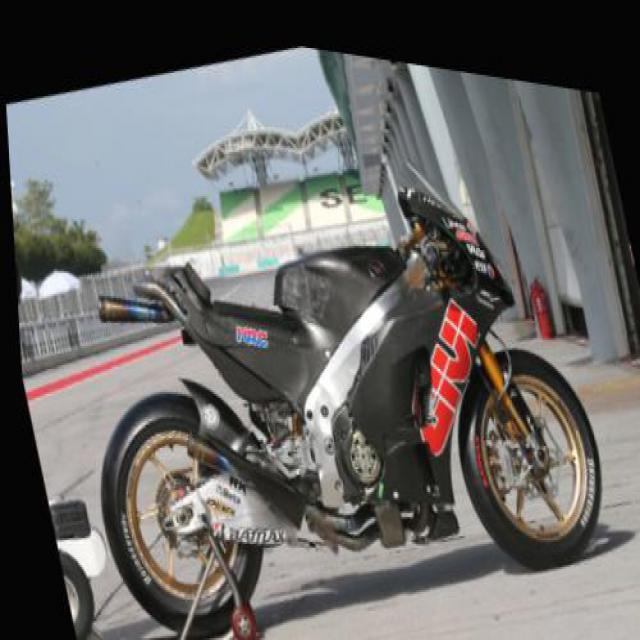HRC RCV 213: (31, 50, 624, 638)
